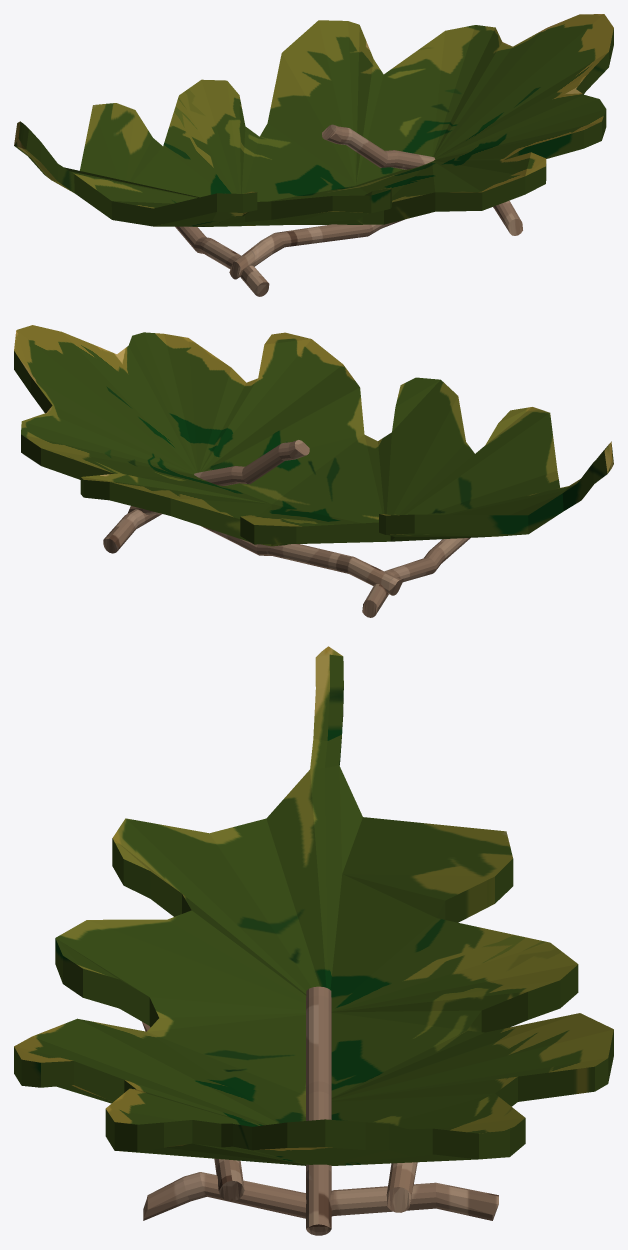
Rendered from leaf_car.fbx.
The picture shows the model from 3 angles, top to bottom: view 1: azimuth 30°, elevation 25°; view 2: azimuth 150°, elevation 25°; view 3: azimuth 270°, elevation 25°; orthographic projection. The views are drawn at different scales.
Visible parts, largest first — view 1: Plane, Cylinder.003, Cylinder.004, Cylinder, Cylinder.001; view 2: Plane, Cylinder.002, Cylinder.004, Cylinder, Cylinder.001; view 3: Plane, Cylinder.001, Cylinder.004, Cylinder.002, Cylinder.003.
Boxes of the visible parts, box(x1,y1,x2,y2) form: Plane: box(14, 14, 613, 226); Cylinder.003: box(229, 220, 402, 279); Cylinder.004: box(322, 124, 435, 169); Cylinder: box(175, 226, 269, 296); Cylinder.001: box(493, 200, 522, 235); Plane: box(14, 325, 613, 546); Cylinder.002: box(127, 506, 402, 595); Cylinder.004: box(194, 440, 309, 485); Cylinder: box(362, 538, 470, 617); Cylinder.001: box(103, 509, 161, 553); Plane: box(14, 646, 613, 1165); Cylinder.001: box(143, 1172, 498, 1220); Cylinder.004: box(306, 986, 331, 1235); Cylinder.002: box(386, 1162, 417, 1212); Cylinder.003: box(214, 1158, 244, 1201).
Bounding box in the file's own units: 460 × 134 × 276.
Materials: 2 (2 with a texture image).
